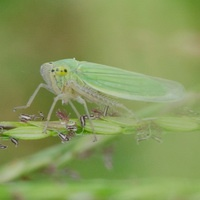insect: (17, 59, 184, 132)
